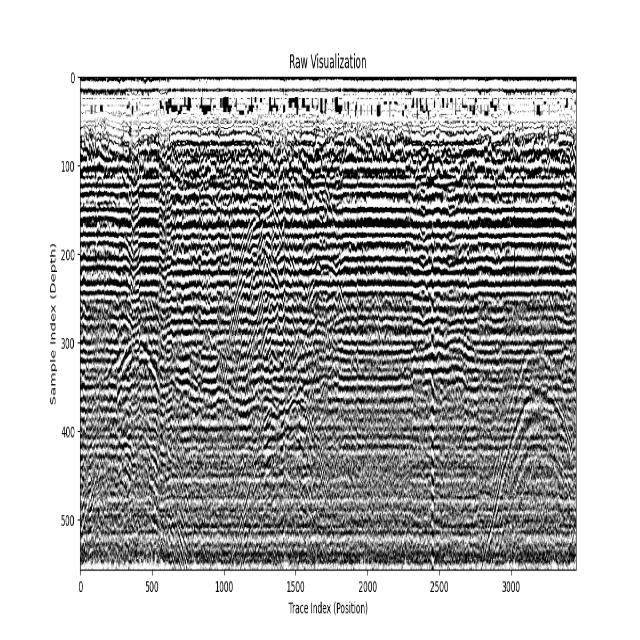anomaly: (476, 348, 575, 572), (223, 208, 303, 382), (175, 348, 312, 440), (108, 313, 162, 422)
